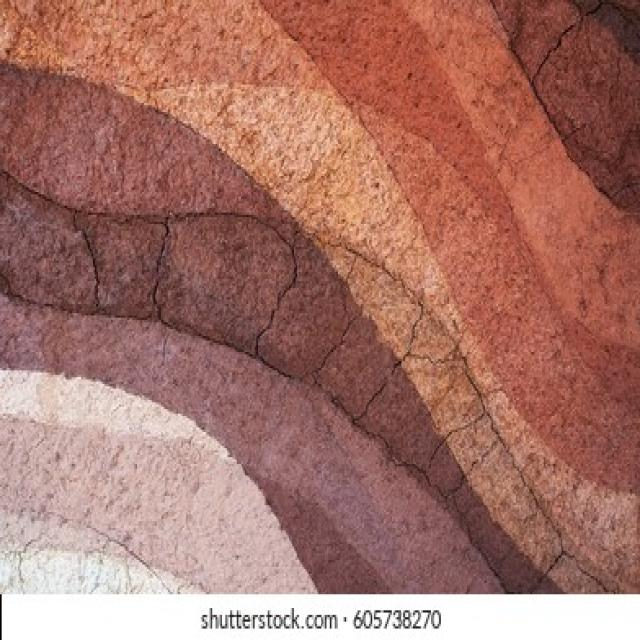Red Soil: (398, 21, 608, 445), (94, 67, 97, 70)
